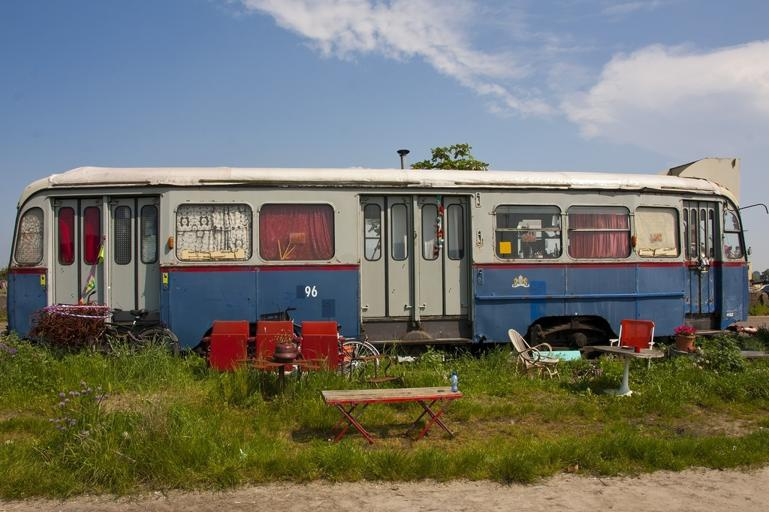non-vehicle: (279, 307, 382, 377), (85, 289, 181, 361)
